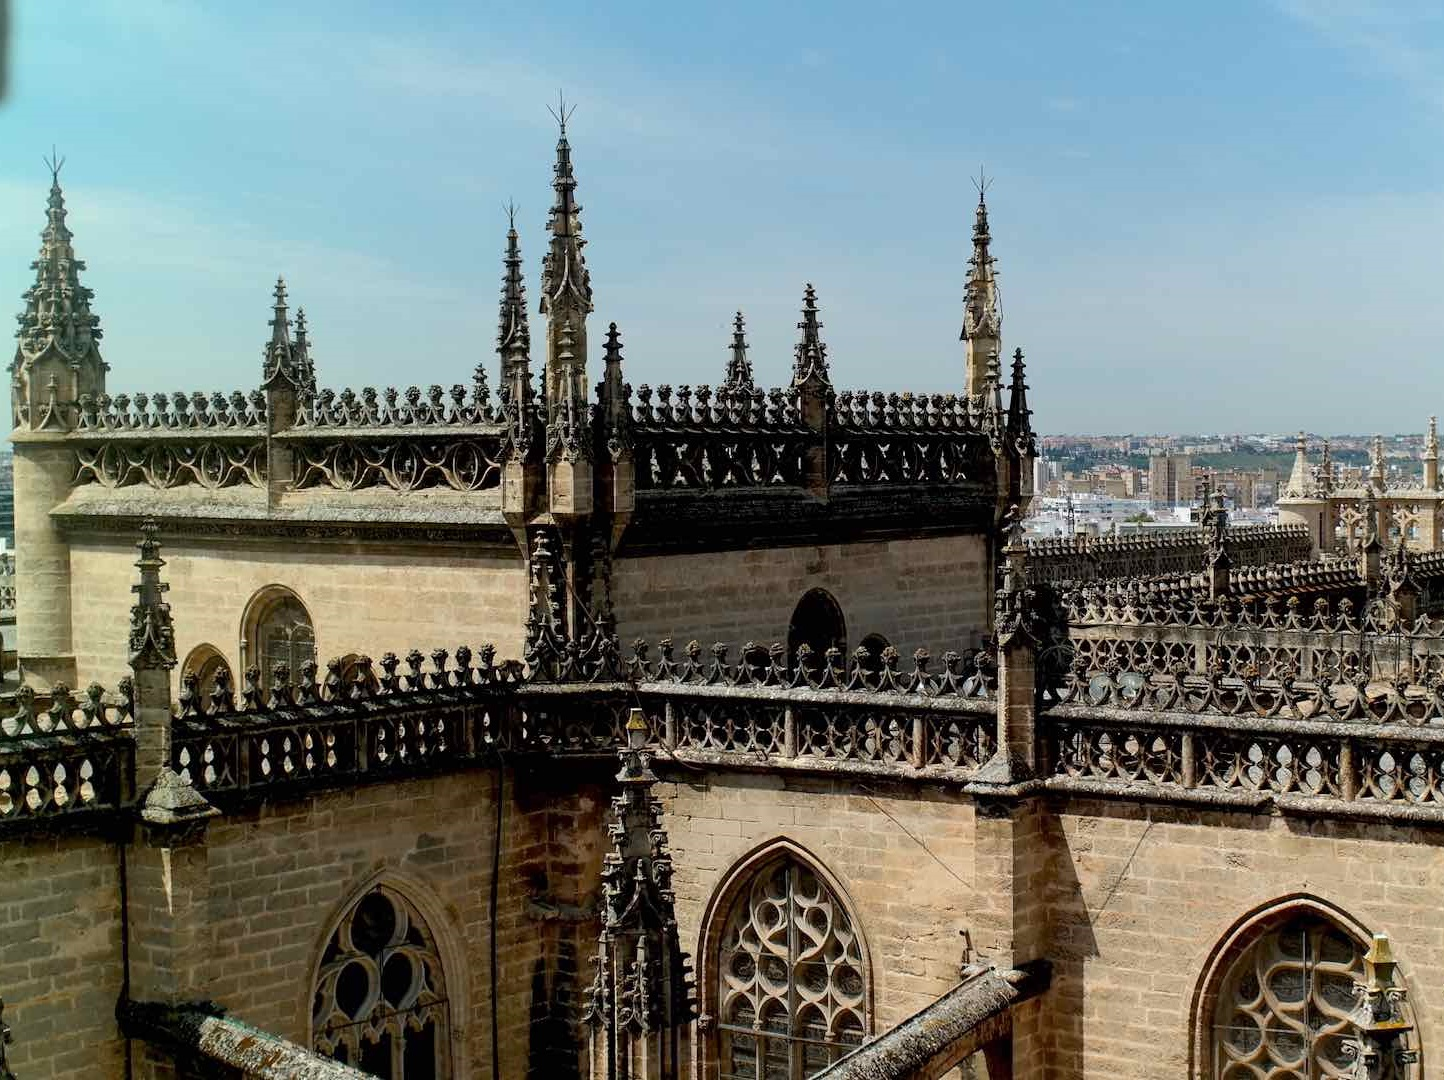arco-apuntado: (1184, 886, 1425, 1062), (696, 830, 871, 959), (299, 874, 480, 992)
pinaculo-gotico: (6, 160, 112, 371), (537, 115, 597, 322), (953, 188, 1012, 346), (120, 508, 179, 655), (490, 212, 538, 349), (993, 498, 1039, 631), (261, 265, 310, 385), (522, 521, 563, 656), (789, 272, 833, 379), (593, 317, 633, 422), (1002, 341, 1036, 429), (723, 304, 755, 383)
